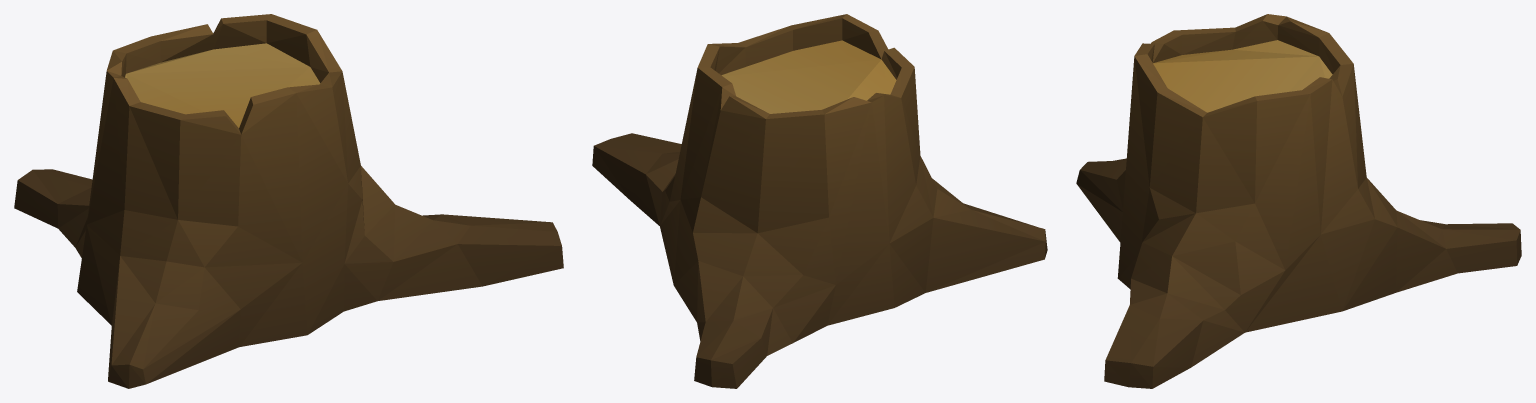
File: Stump_01.fbx
3 views of the same model, side by side, from view 1: azimuth 30°, elevation 25°; view 2: azimuth 150°, elevation 25°; view 3: azimuth 270°, elevation 25° (orthographic). The views are drawn at different scales.
Parts seen in each view (by area): view 1: Stump_01; view 2: Stump_01; view 3: Stump_01.
Boxes of the visible parts, <box> form: Stump_01: <box>14,14,563,388</box>; Stump_01: <box>592,14,1047,388</box>; Stump_01: <box>1076,14,1521,388</box>.
Bounding box in the file's own units: 1.51 × 0.7482 × 1.32.
